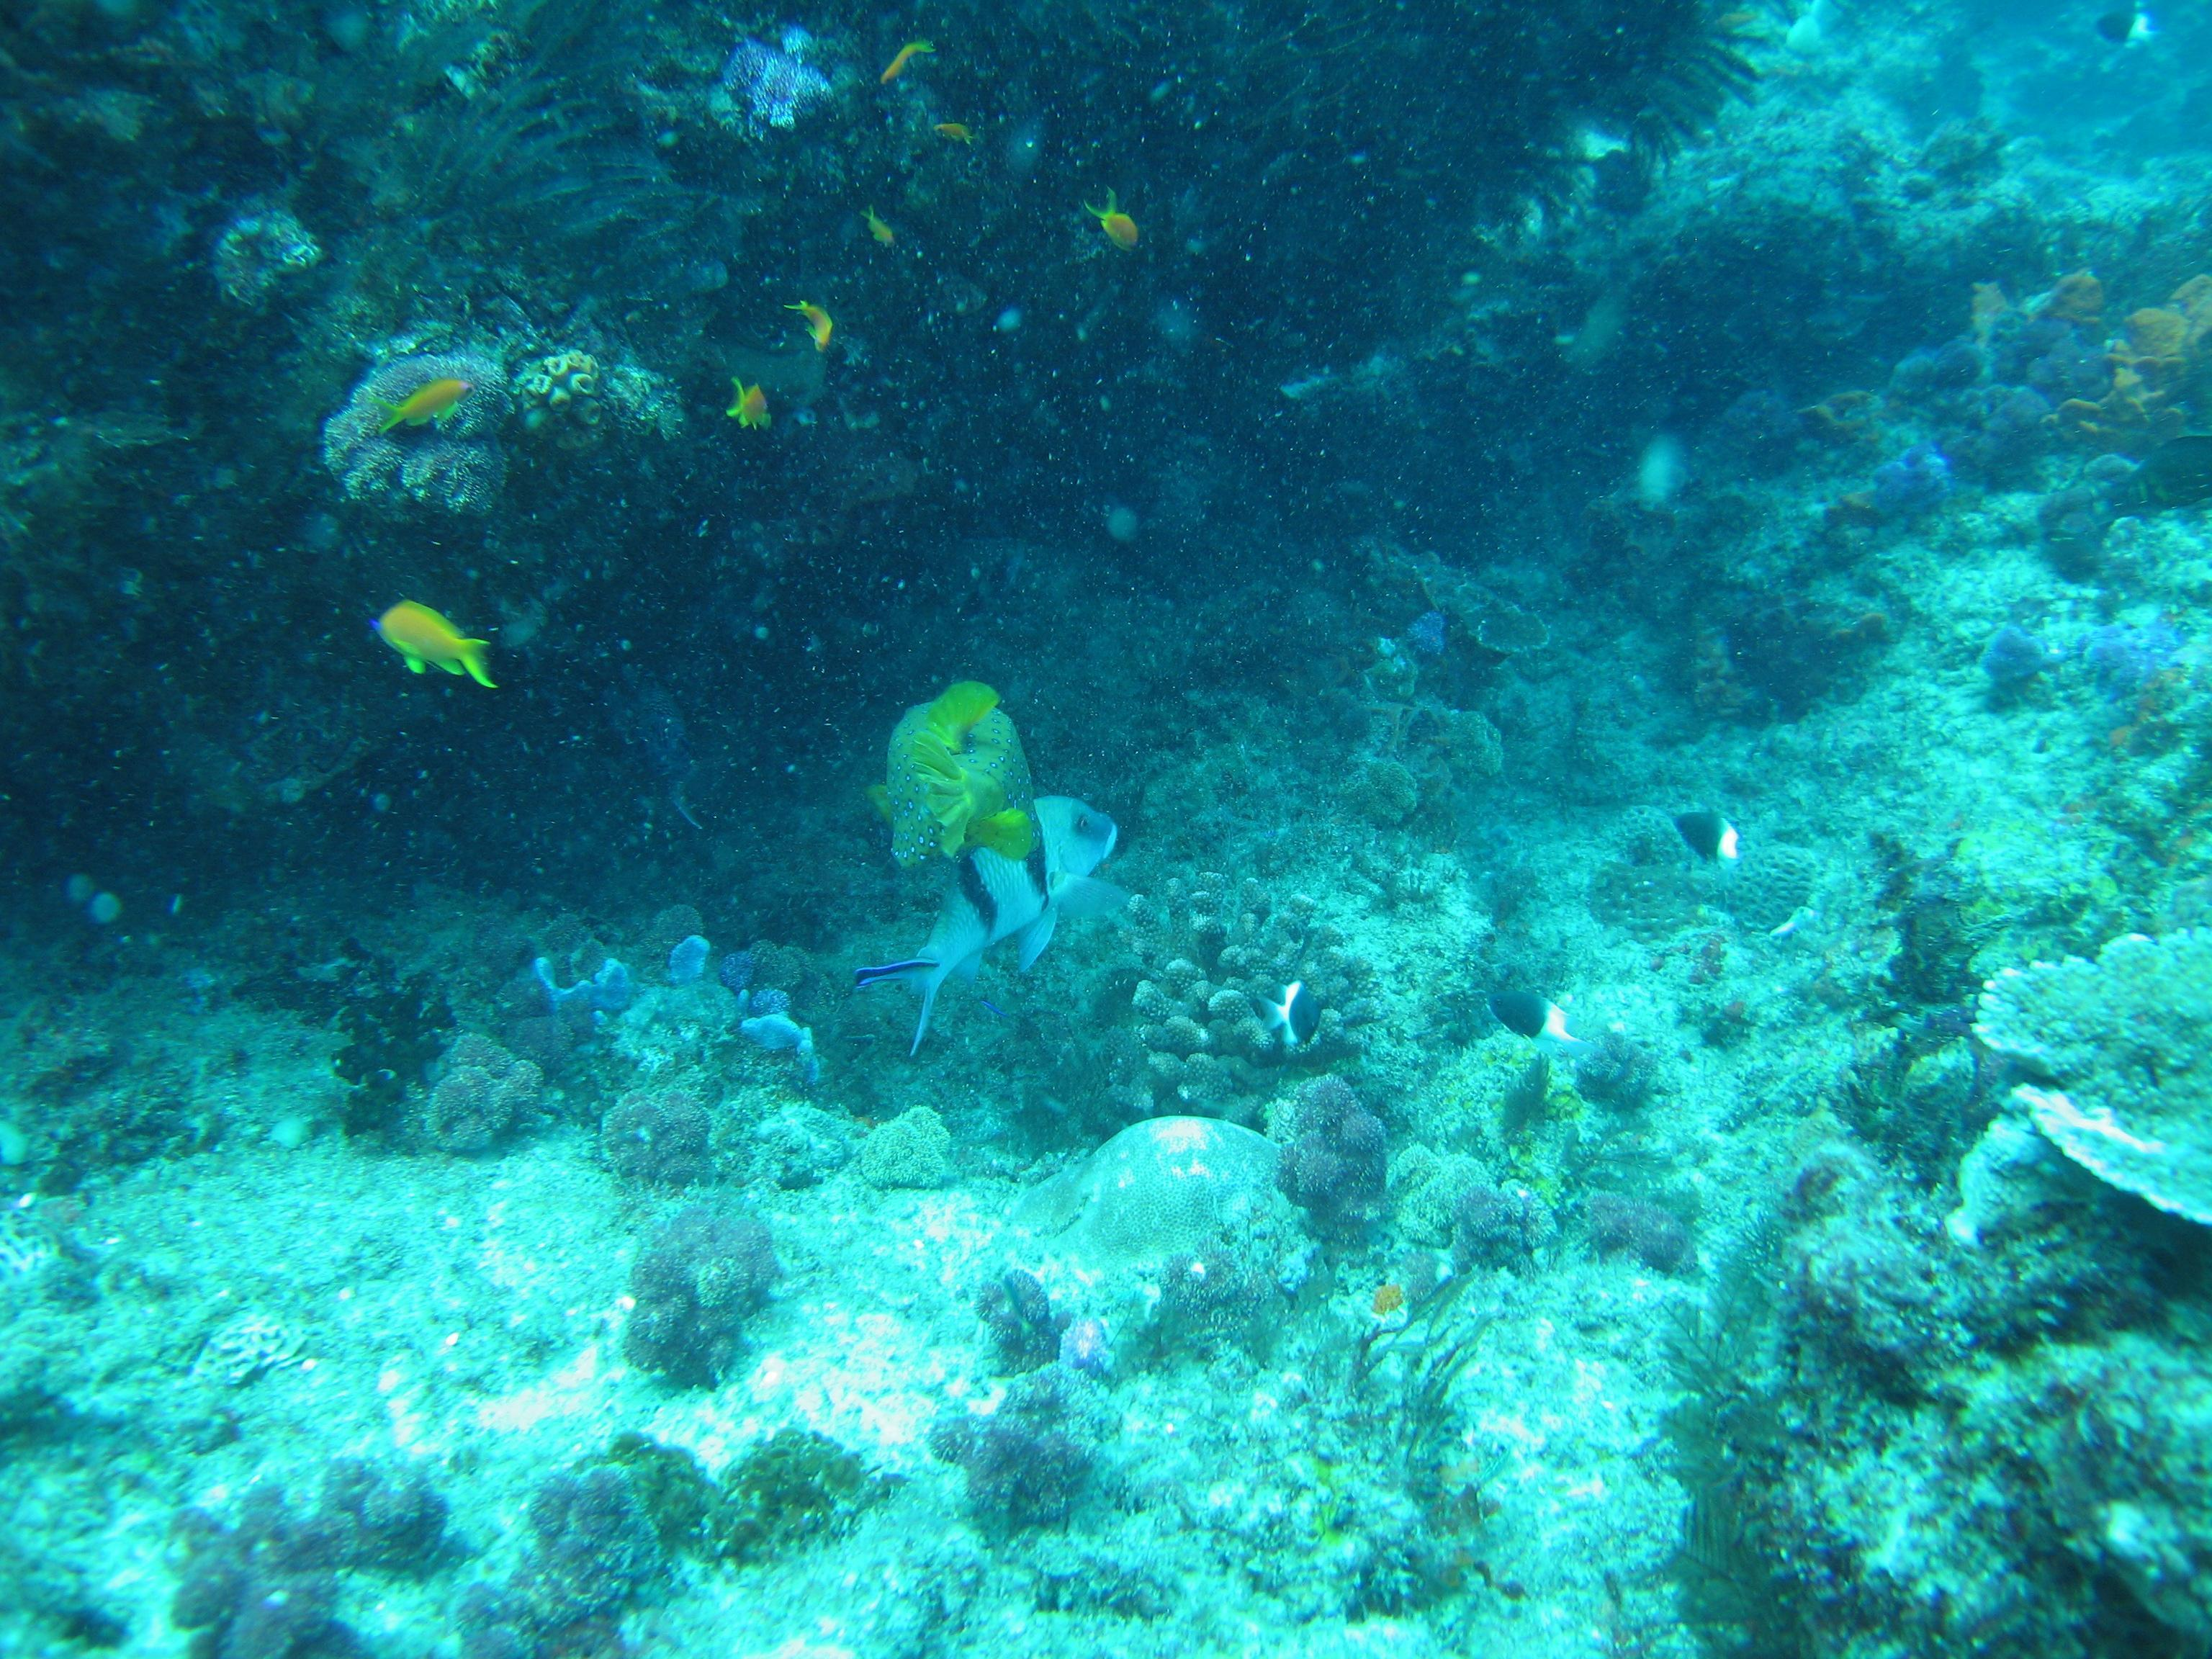Fish: (840, 702, 1221, 1105)
